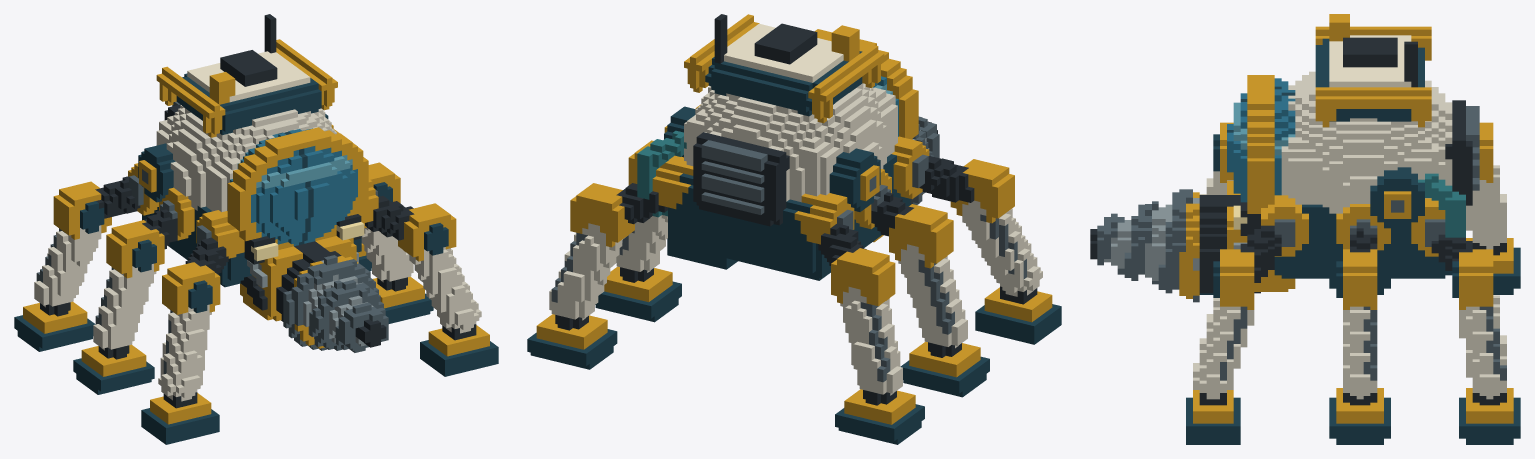
File: seabed_miner.glb
3 views of the same model, side by side, from view 1: azimuth 30°, elevation 25°; view 2: azimuth 150°, elevation 25°; view 3: azimuth 270°, elevation 25° (orthographic). The views are drawn at different scales.
Visible parts, largest first — view 1: seabed_miner; view 2: seabed_miner; view 3: seabed_miner.
Part boxes in pixels (<box>): seabed_miner: <box>14,14,498,444</box>; seabed_miner: <box>527,14,1061,444</box>; seabed_miner: <box>1090,14,1520,444</box>.
Size of the model in its own units: 5.58 by 4.86 by 5.67.
